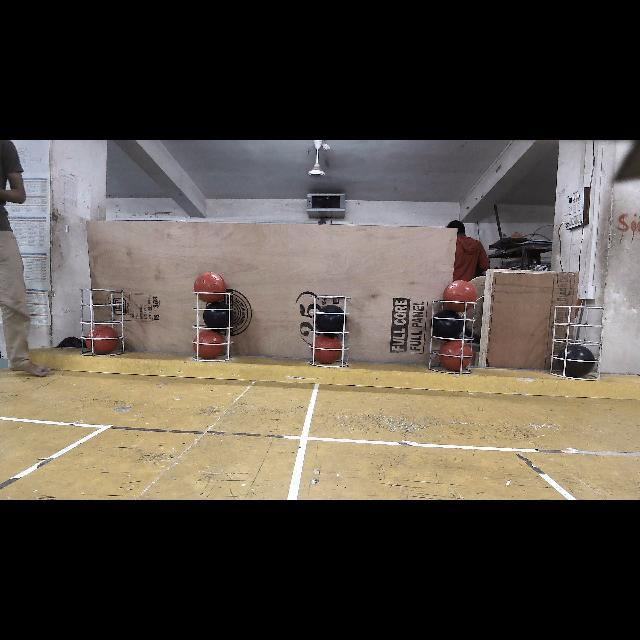P: (557, 345, 595, 377), (431, 311, 463, 341), (314, 305, 346, 335), (202, 303, 232, 331)
R: (442, 280, 478, 312), (440, 339, 472, 371), (194, 272, 226, 302), (85, 326, 118, 354), (312, 334, 342, 364), (194, 329, 224, 358)
S: (550, 305, 604, 379), (429, 300, 478, 374), (310, 293, 350, 368), (81, 289, 124, 354), (193, 290, 231, 361)
